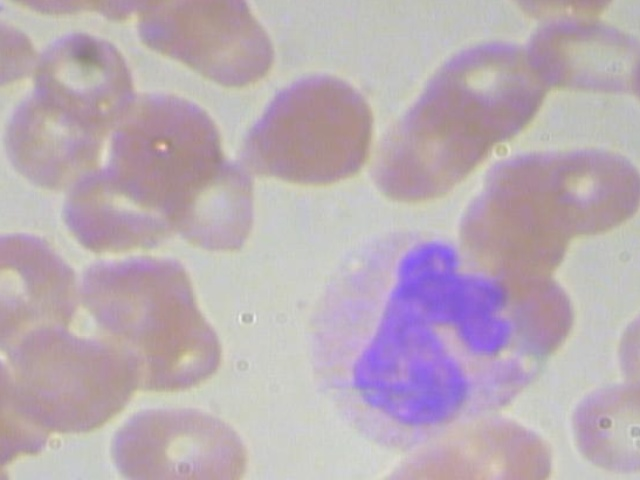RBC: (242, 71, 382, 194), (519, 5, 640, 113), (45, 156, 170, 258), (105, 397, 250, 479), (28, 25, 135, 126), (158, 152, 265, 253), (532, 139, 640, 236), (565, 373, 640, 473), (133, 0, 249, 64), (612, 297, 640, 399), (633, 32, 640, 138)
WBC: (290, 221, 568, 453)
